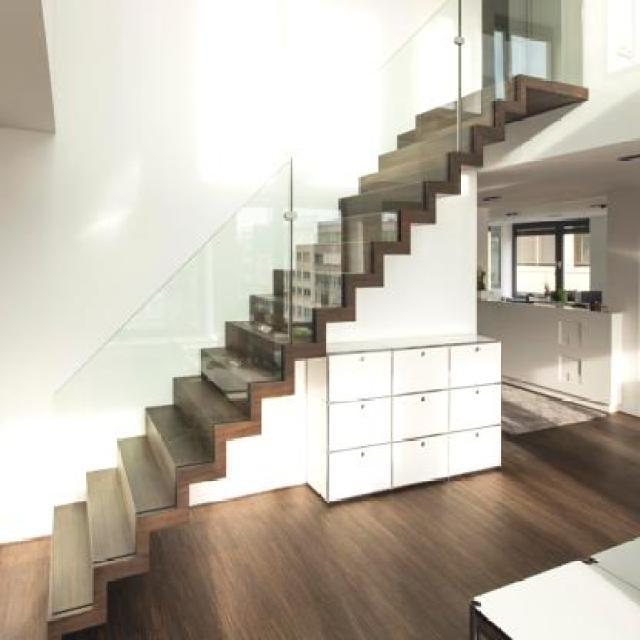stair: (19, 41, 590, 638)
